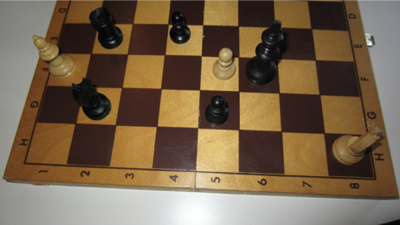black-king: (245, 20, 286, 85)
black-knight: (71, 78, 112, 121)
black-pawn: (205, 95, 230, 126), (170, 11, 192, 45)
black-rook: (89, 7, 124, 50)
white-bishop: (32, 35, 77, 79)
white-knight: (332, 126, 385, 167)
white-pawn: (213, 48, 237, 81)
